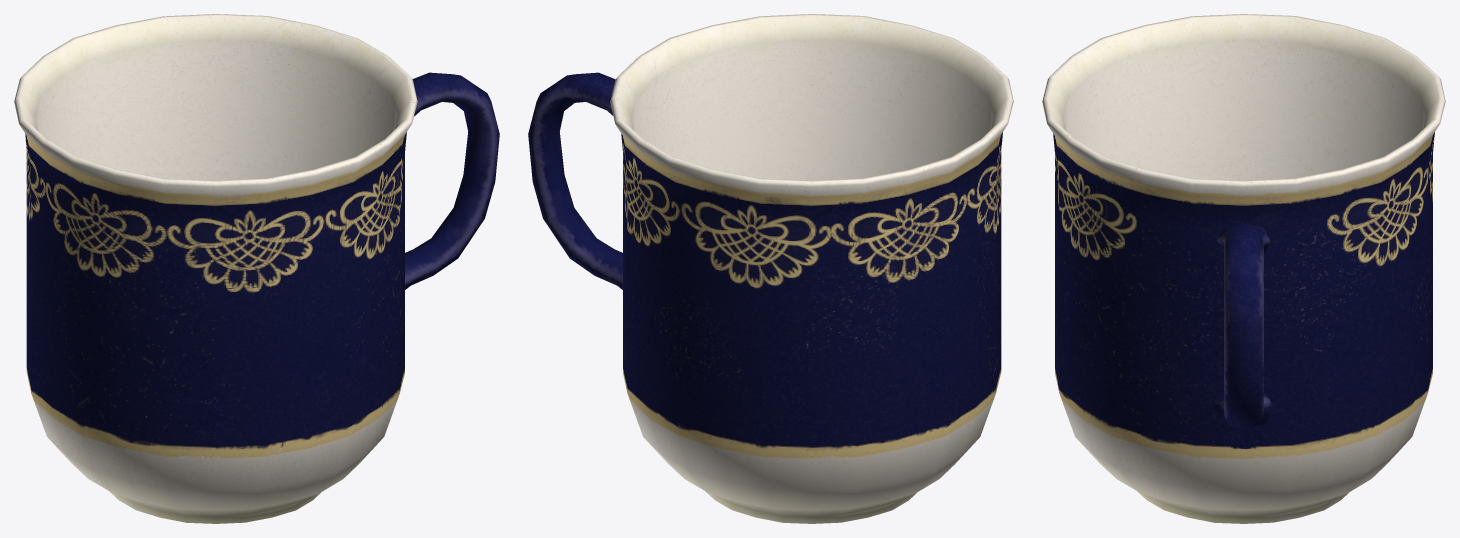
File: mug.fbx
The picture shows the model from 3 angles, left to right: view 1: azimuth 30°, elevation 25°; view 2: azimuth 150°, elevation 25°; view 3: azimuth 270°, elevation 25°; orthographic projection.
Parts seen in each view (by area): view 1: cap; view 2: cap; view 3: cap.
Boxes of the visible parts, bbox=[...] form: cap: bbox=[14, 14, 499, 523]; cap: bbox=[528, 14, 1013, 523]; cap: bbox=[1042, 14, 1445, 523].
Bounding box in the file's own units: 86.93 × 69.03 × 66.74.
Materials: 1 (1 with a texture image).
